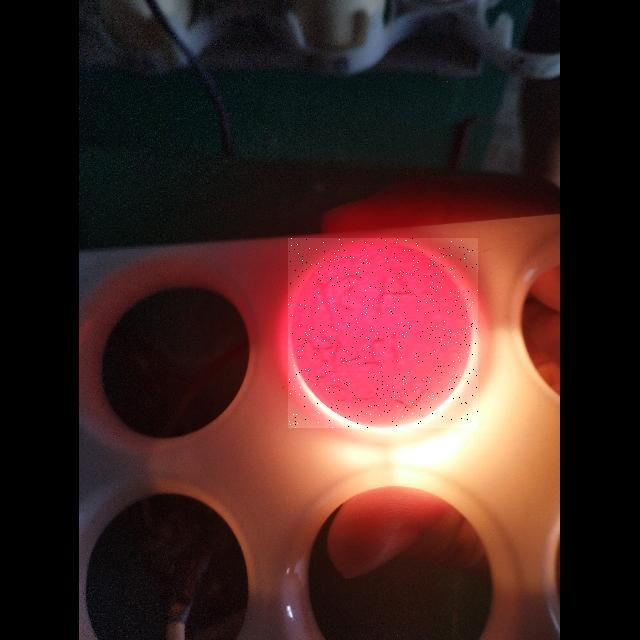Infertile: (288, 238, 478, 428)
